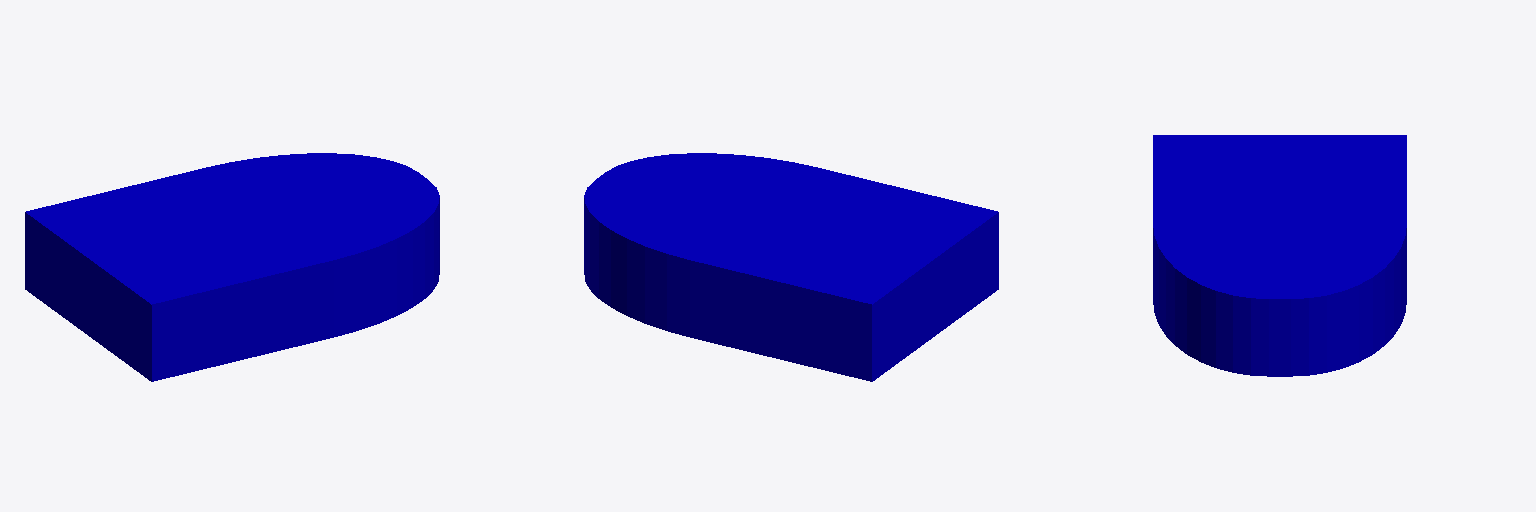
The model's file is fingerplate3.obj.
3 views of the same model, side by side, from view 1: azimuth 30°, elevation 25°; view 2: azimuth 150°, elevation 25°; view 3: azimuth 270°, elevation 25° (orthographic).
Visible parts, largest first — view 1: fingerplate; view 2: fingerplate; view 3: fingerplate.
Part boxes in pixels (x1,y1,x2,y2): fingerplate: (25,153,439,381); fingerplate: (584,153,998,381); fingerplate: (1153,135,1406,376).
Size of the model in its own units: 1.15 by 0.2537 by 0.754.